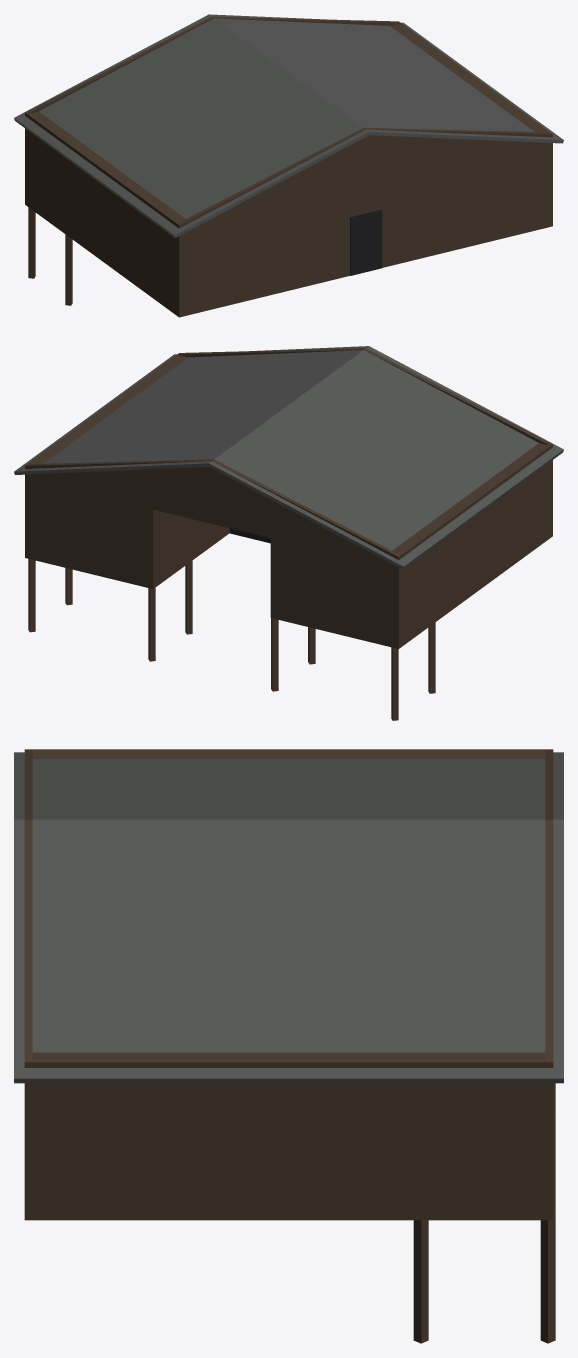
Rendered from boathouse_lod1.glb.
3 views of the same model, one above another, from view 1: azimuth 30°, elevation 25°; view 2: azimuth 150°, elevation 25°; view 3: azimuth 270°, elevation 25° (orthographic). The views are drawn at different scales.
Parts seen in each view (by area): view 1: boathouse_lod1; view 2: boathouse_lod1; view 3: boathouse_lod1.
Part boxes in pixels (box(x1,y1,x2,y2)): boathouse_lod1: box(14, 14, 563, 317); boathouse_lod1: box(14, 346, 563, 720); boathouse_lod1: box(14, 749, 563, 1343).
Size of what is drawn, in the model's own units: 14.6 by 7.7 by 10.4.
Materials: 1 (1 with a texture image).
